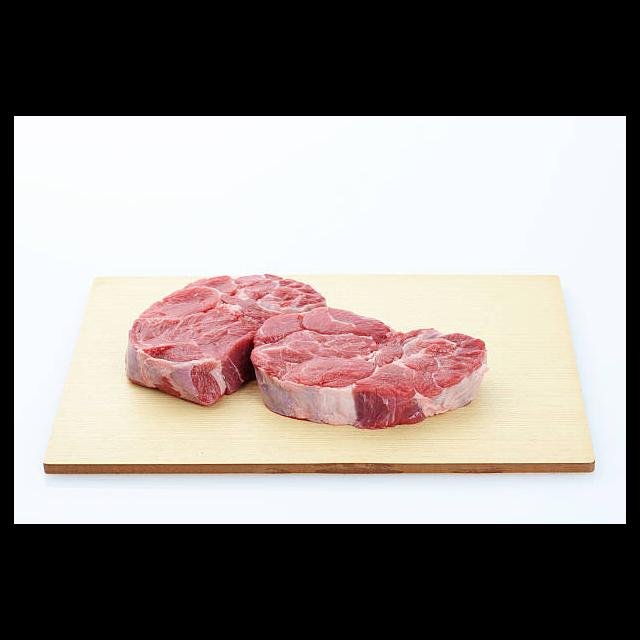beef: (249, 309, 490, 433), (123, 274, 324, 407)
